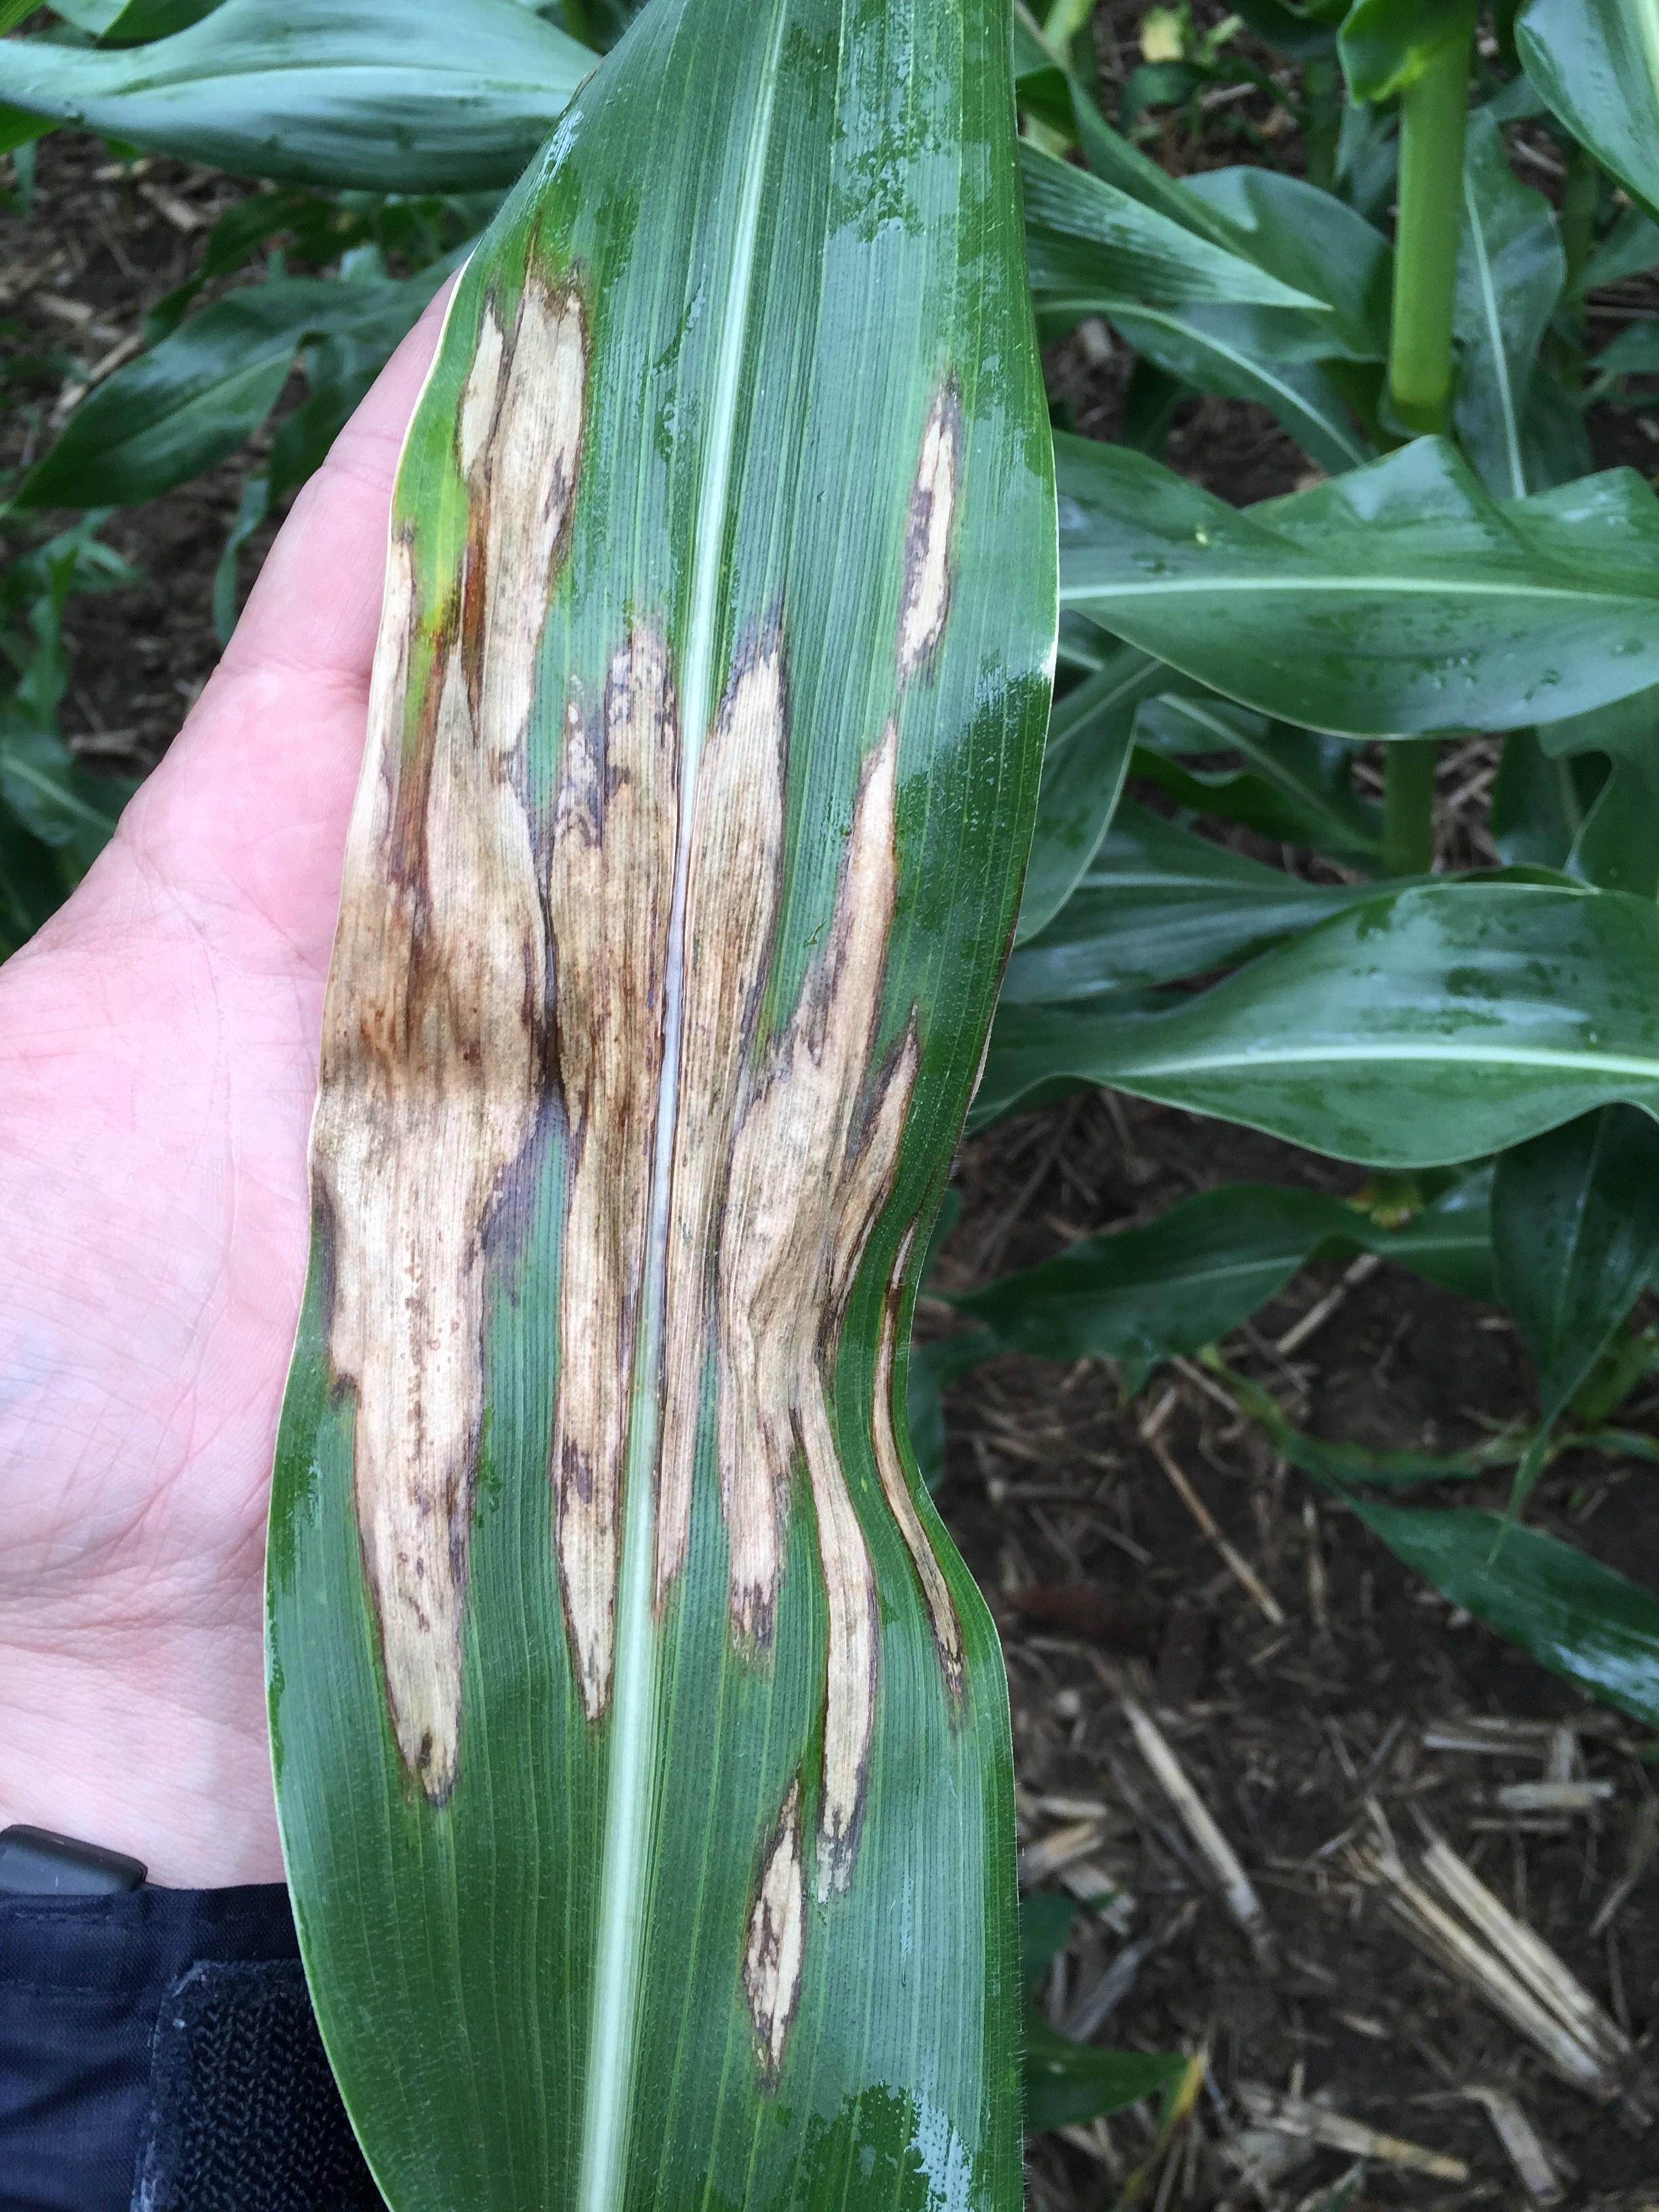Corn leaf blight: (359, 19, 1026, 2212)
